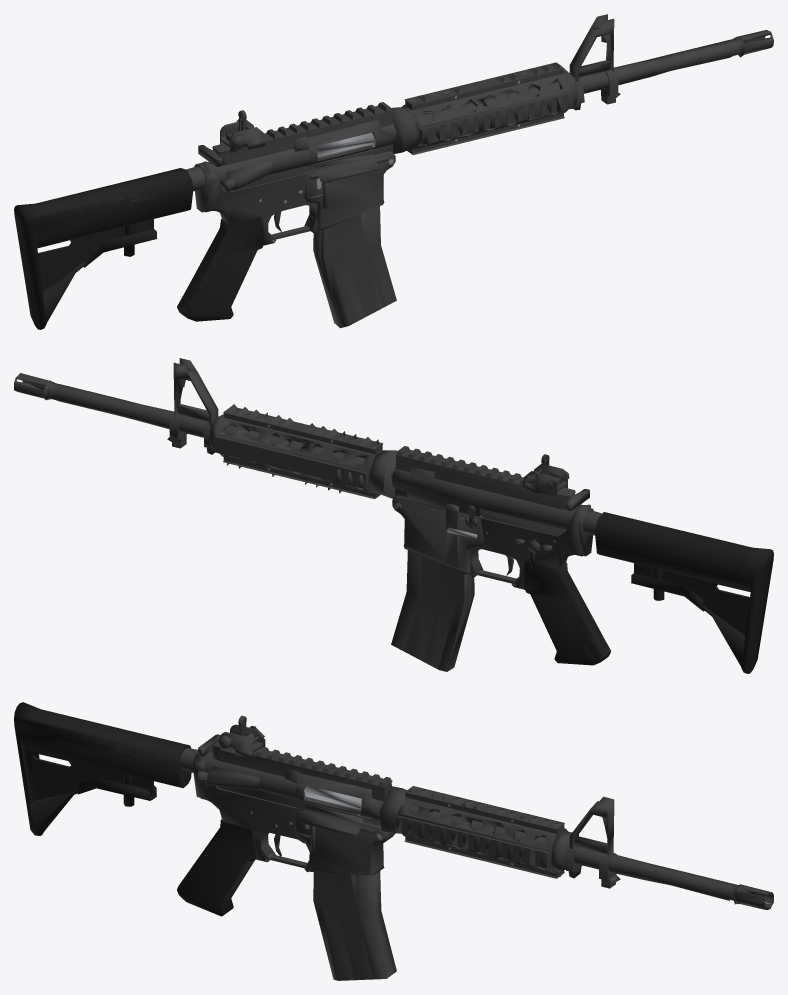
Rendered from rifle.glb.
3 renders of one model, top to bottom at view 1: azimuth 30°, elevation 25°; view 2: azimuth 150°, elevation 25°; view 3: azimuth 330°, elevation 25°, orthographic.
Parts seen in each view (by area): view 1: ESMO_CC0_M4A1_Body, ESMO_CC0_M4A1_Magazine; view 2: ESMO_CC0_M4A1_Body, ESMO_CC0_M4A1_Magazine; view 3: ESMO_CC0_M4A1_Body, ESMO_CC0_M4A1_Magazine.
Boxes of the visible parts, x1=… form: ESMO_CC0_M4A1_Body: x1=14, y1=14, x2=773, y2=329; ESMO_CC0_M4A1_Magazine: x1=313, y1=206, x2=396, y2=328; ESMO_CC0_M4A1_Body: x1=14, y1=358, x2=773, y2=673; ESMO_CC0_M4A1_Magazine: x1=391, y1=529, x2=474, y2=671; ESMO_CC0_M4A1_Body: x1=14, y1=702, x2=773, y2=916; ESMO_CC0_M4A1_Magazine: x1=313, y1=871, x2=396, y2=980.
Size of the model in its own units: 1.77 by 0.5463 by 0.1314.
Materials: 1 (1 with a texture image).
